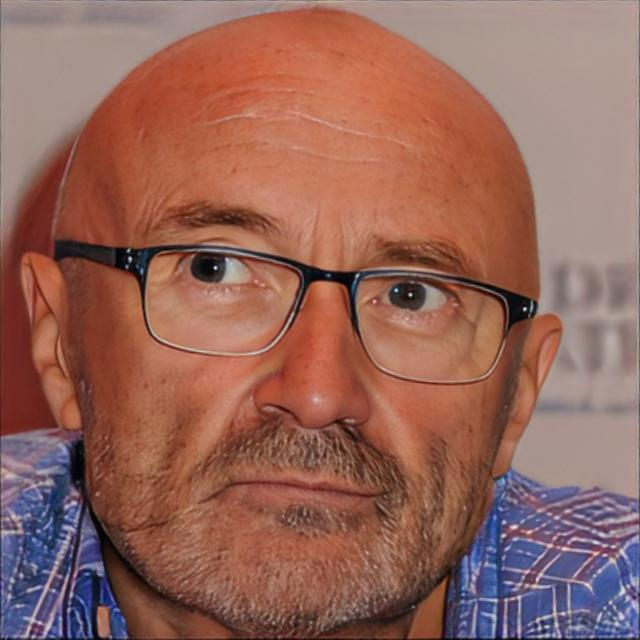neutral: (76, 56, 516, 636)
